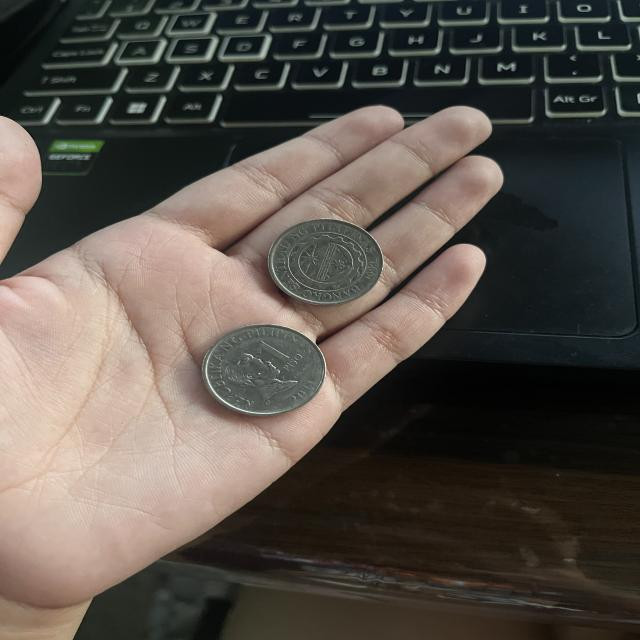1_Old_Back: (287, 228, 371, 300)
1_Old_Front: (213, 334, 308, 400)
